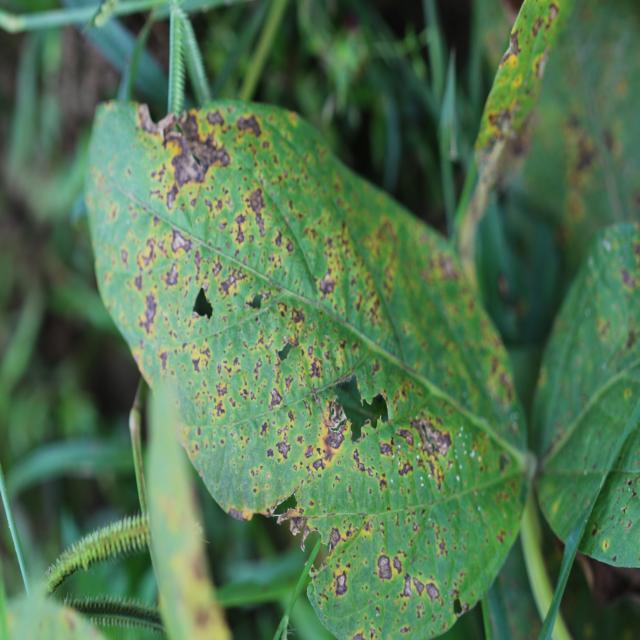Bacterial_Blight: (158, 120, 224, 202), (328, 373, 391, 442), (311, 401, 355, 468), (138, 103, 203, 148), (275, 502, 333, 552), (413, 418, 452, 458), (246, 185, 268, 235), (274, 333, 297, 365)
Soybean: (86, 101, 526, 640)
